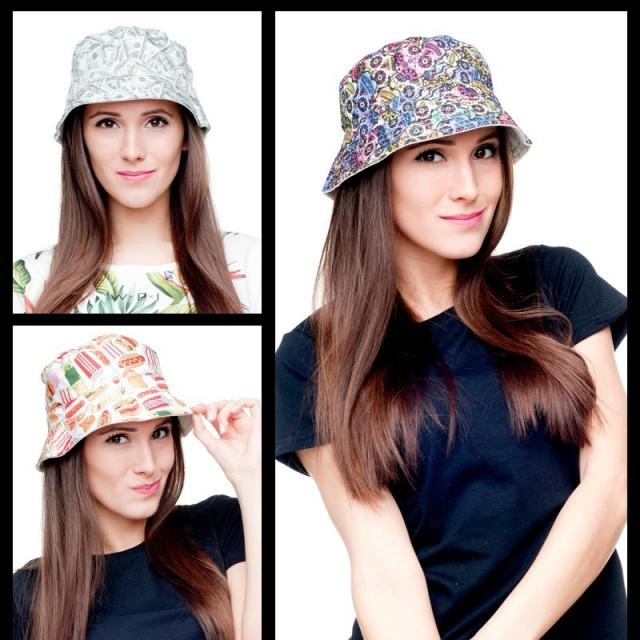hat: (322, 34, 532, 262), (30, 332, 206, 522), (58, 29, 209, 206)
